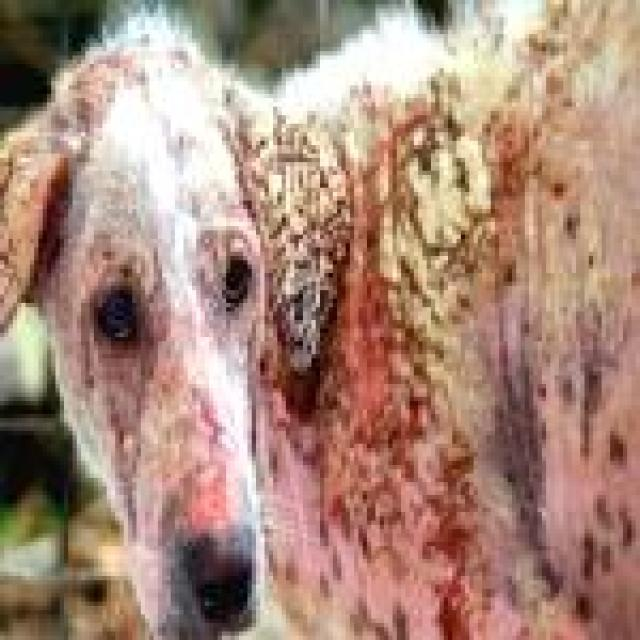fungal infection: (244, 117, 368, 351), (388, 114, 488, 324), (325, 427, 421, 562), (434, 440, 486, 640), (168, 424, 245, 530), (386, 328, 464, 427), (0, 124, 44, 298), (162, 359, 217, 421), (101, 409, 147, 465), (94, 248, 144, 285), (194, 227, 246, 255), (202, 260, 223, 326)
